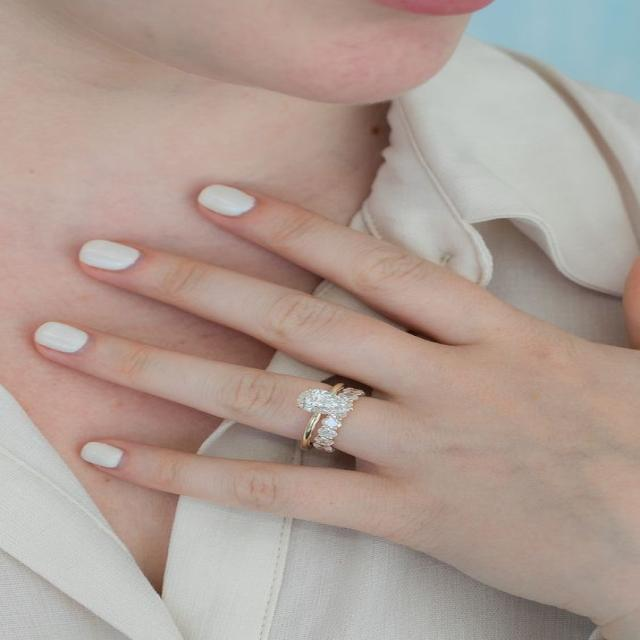Fingernail: (196, 182, 256, 217), (80, 240, 142, 271), (34, 321, 88, 353), (80, 442, 124, 468)
